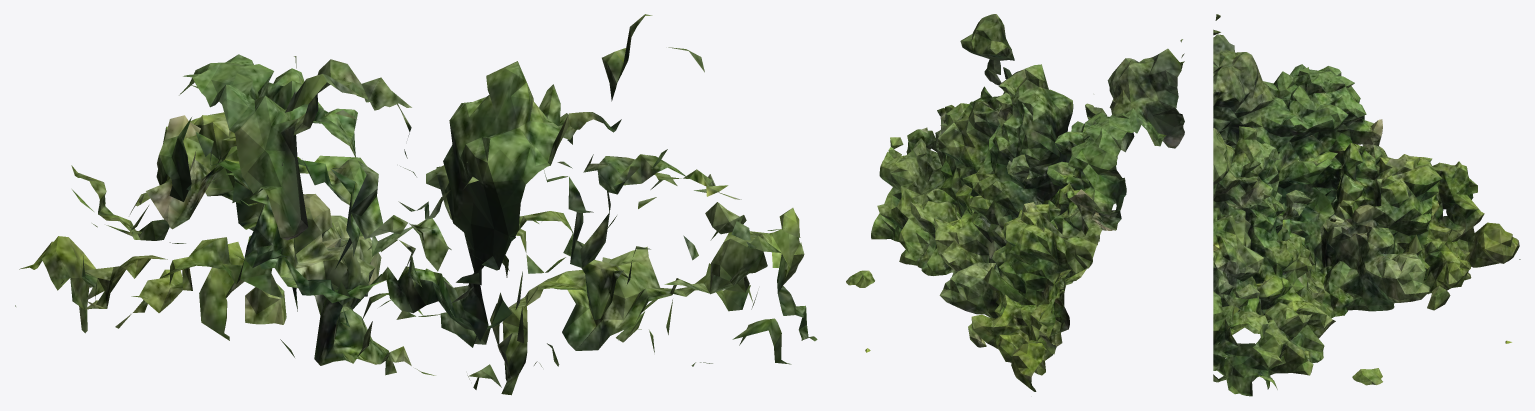
The picture shows the model from 3 angles, left to right: view 1: azimuth 30°, elevation 25°; view 2: azimuth 150°, elevation 25°; view 3: azimuth 270°, elevation 25°; orthographic projection. The views are drawn at different scales.
Size of the model in its own units: 52.22 by 43.71 by 49.46.
Materials: 5 (5 with a texture image).
